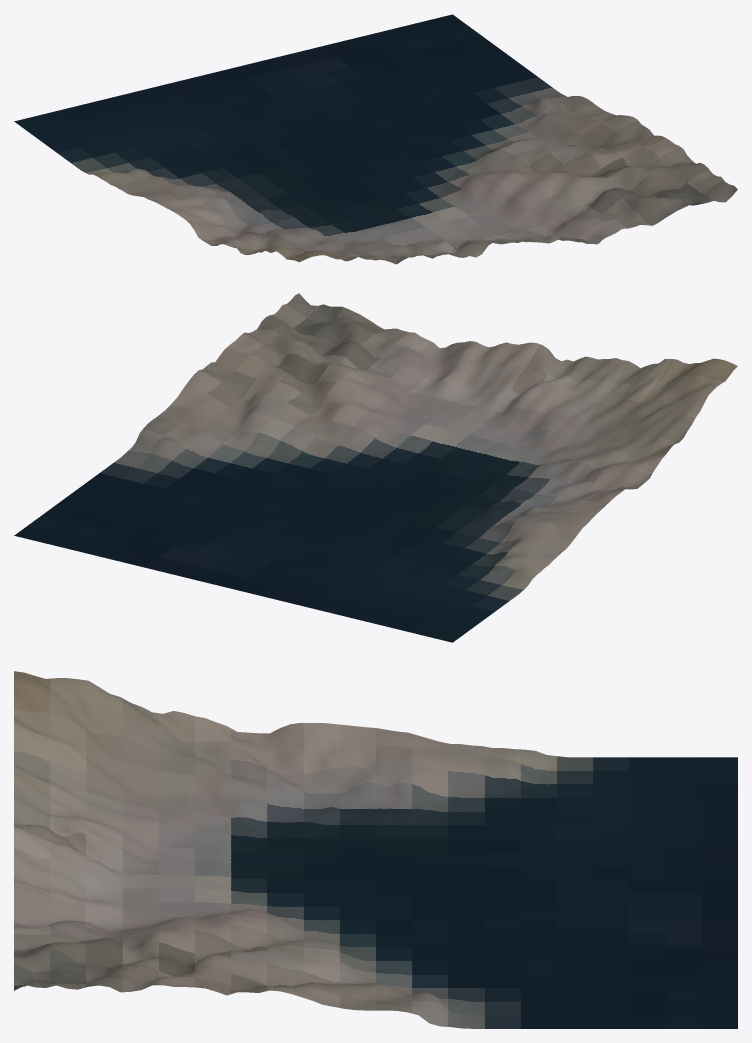
Rendered from valparaiso.gltf.
3 views of the same model, one above another, from view 1: azimuth 30°, elevation 25°; view 2: azimuth 150°, elevation 25°; view 3: azimuth 270°, elevation 25° (orthographic). The views are drawn at different scales.
Parts seen in each view (by area): view 1: TerrainNode; view 2: TerrainNode; view 3: TerrainNode.
Boxes of the visible parts, x1,y1,x2,y2 form: TerrainNode: (14,14,737,264); TerrainNode: (14,293,737,642); TerrainNode: (14,671,737,1028).
Size of the model in its own units: 6.68 by 1.02 by 7.52.
1 material, 1 textured.
